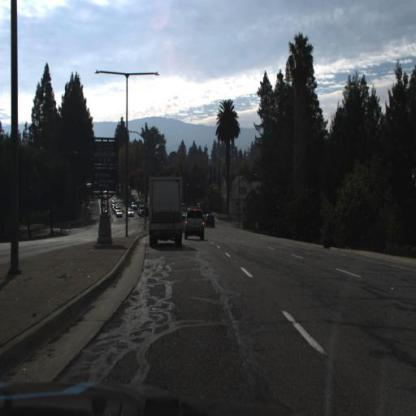car: (185, 209, 207, 240), (204, 210, 217, 231), (140, 205, 150, 219), (125, 209, 135, 221)
truck: (149, 176, 185, 249), (139, 203, 148, 218)
